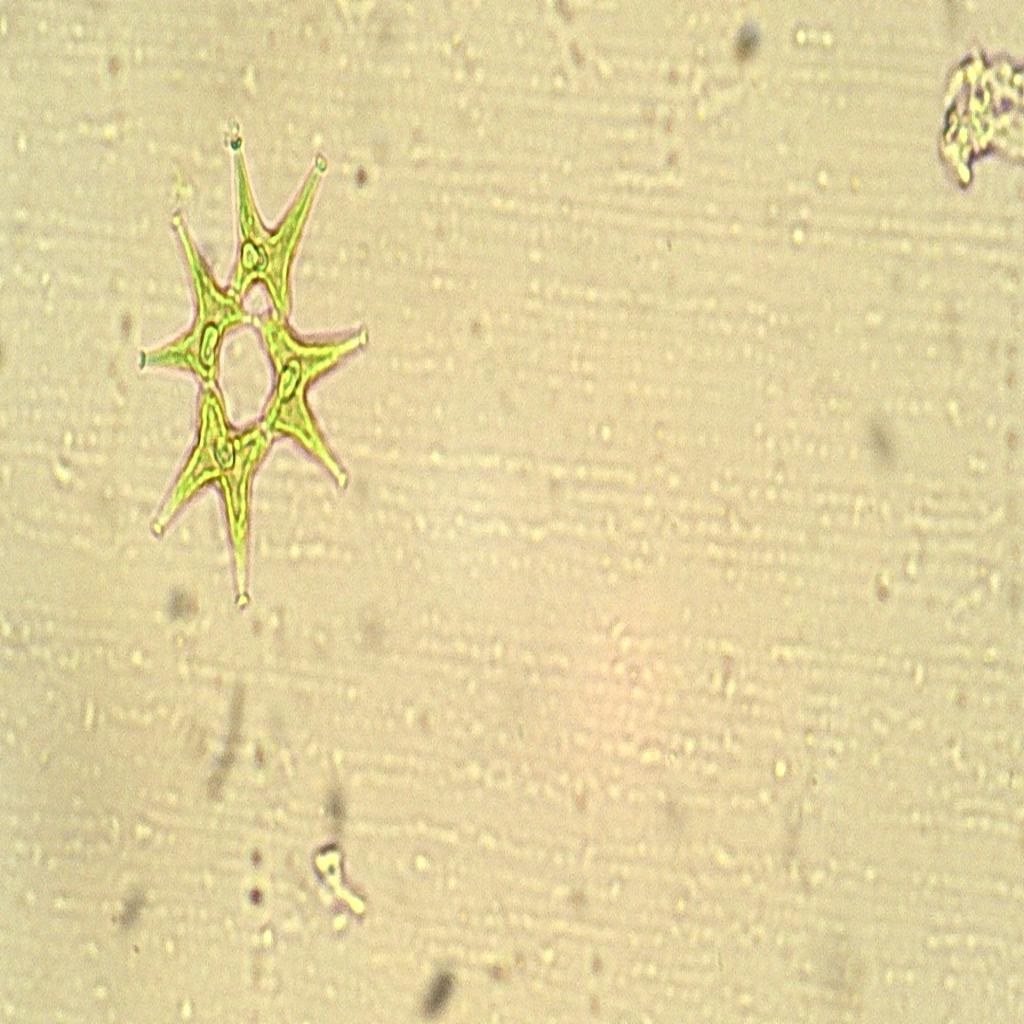Pediastrum_75FO: (132, 108, 376, 632)
